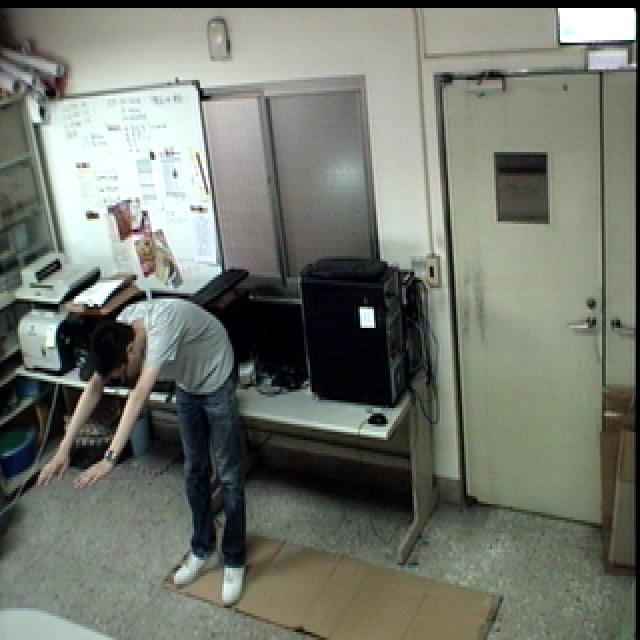bend: (34, 283, 254, 612)
